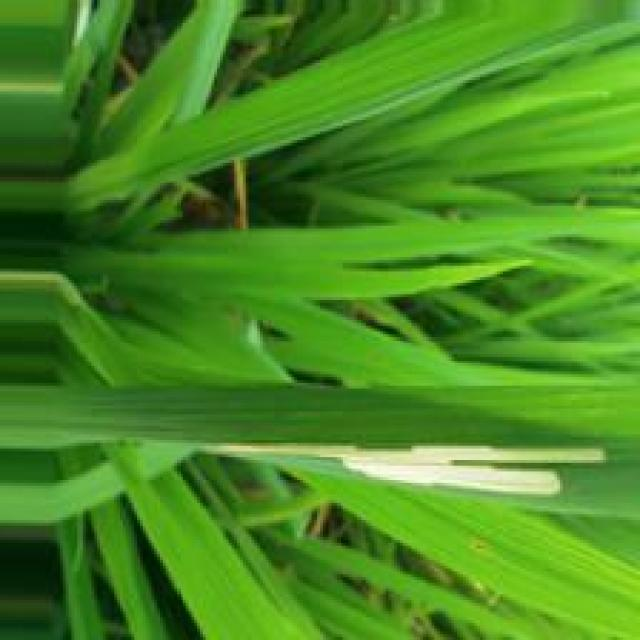Rice_Hispa: (205, 441, 605, 497)
